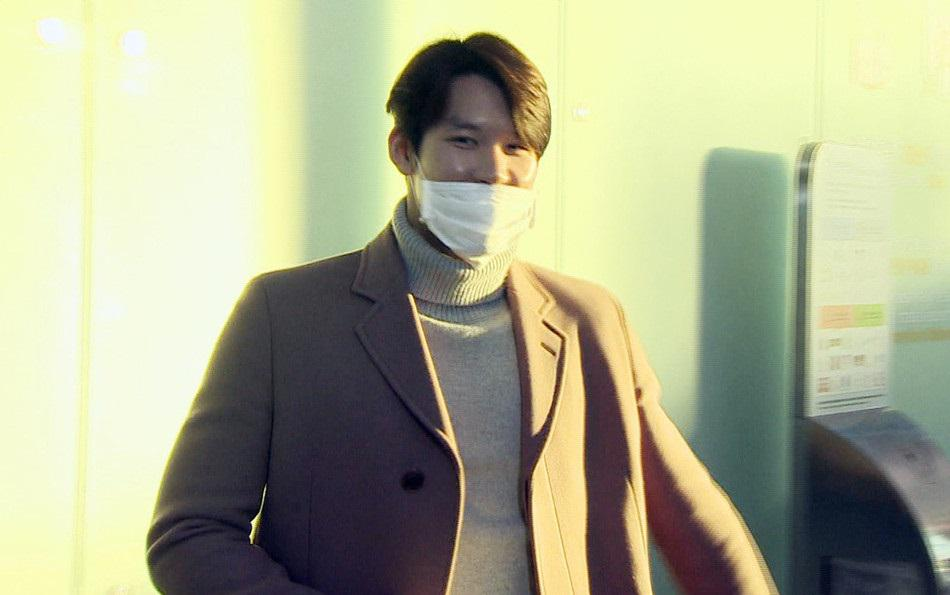WRONG: (409, 121, 540, 261)
